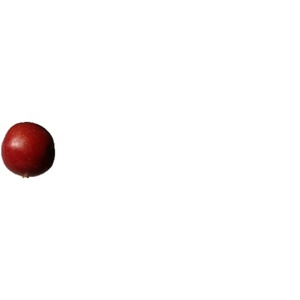maçã braeburn: (2, 121, 55, 180)
